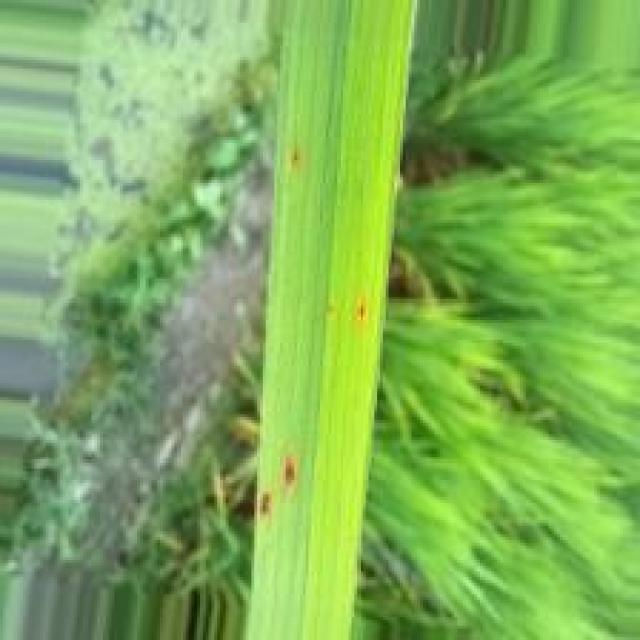Brown_Spot: (278, 451, 302, 493), (257, 488, 276, 520), (353, 296, 373, 325), (290, 145, 307, 176)
